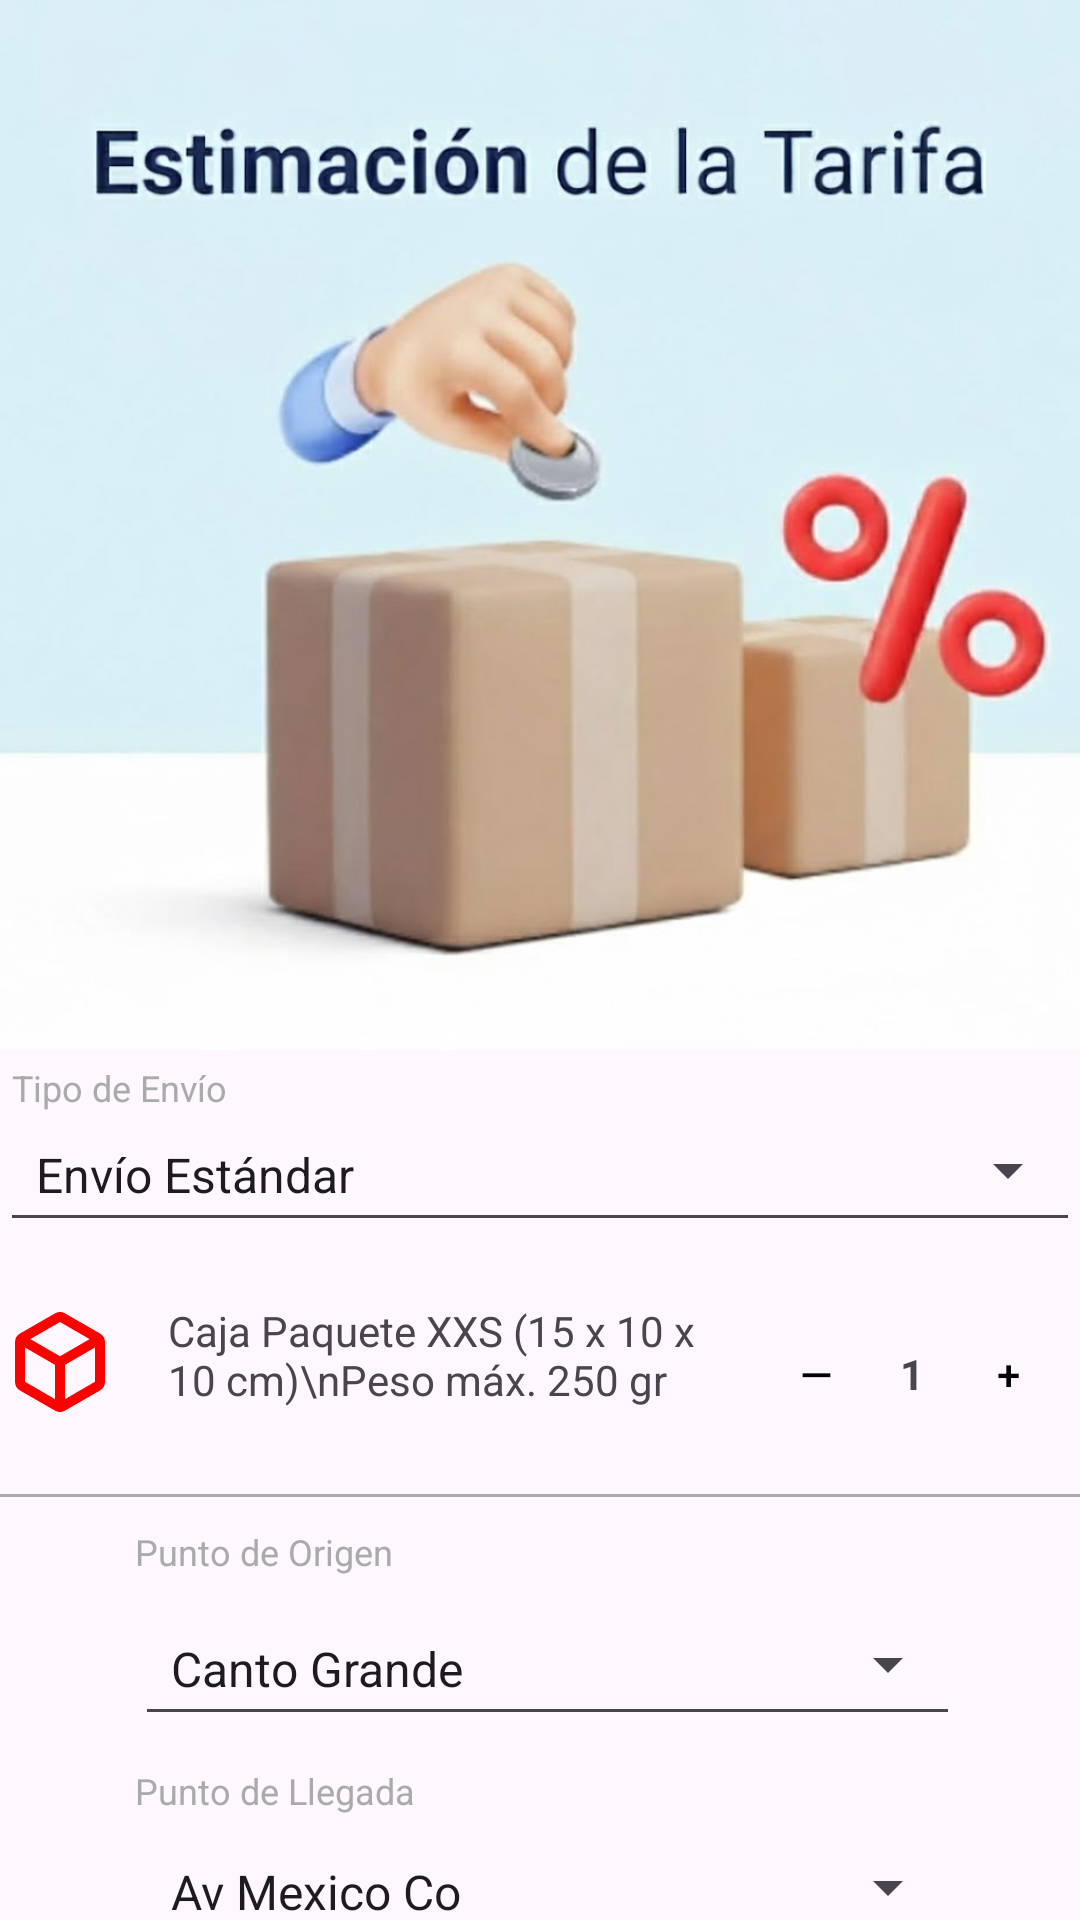

Named icons in this screenshot (1080px×1920px) and their bounding boxes, (x1, y1, x2, y2):
Box Icon: (15, 1312, 105, 1412)
